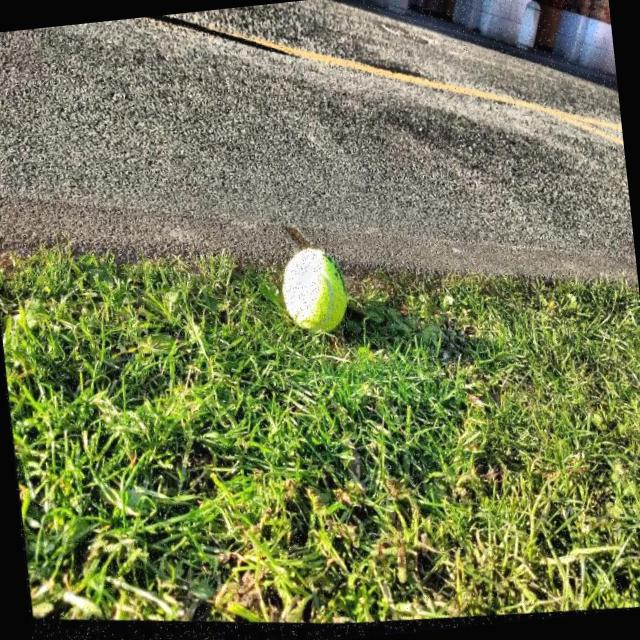Tennis Ball: (273, 240, 354, 351)
